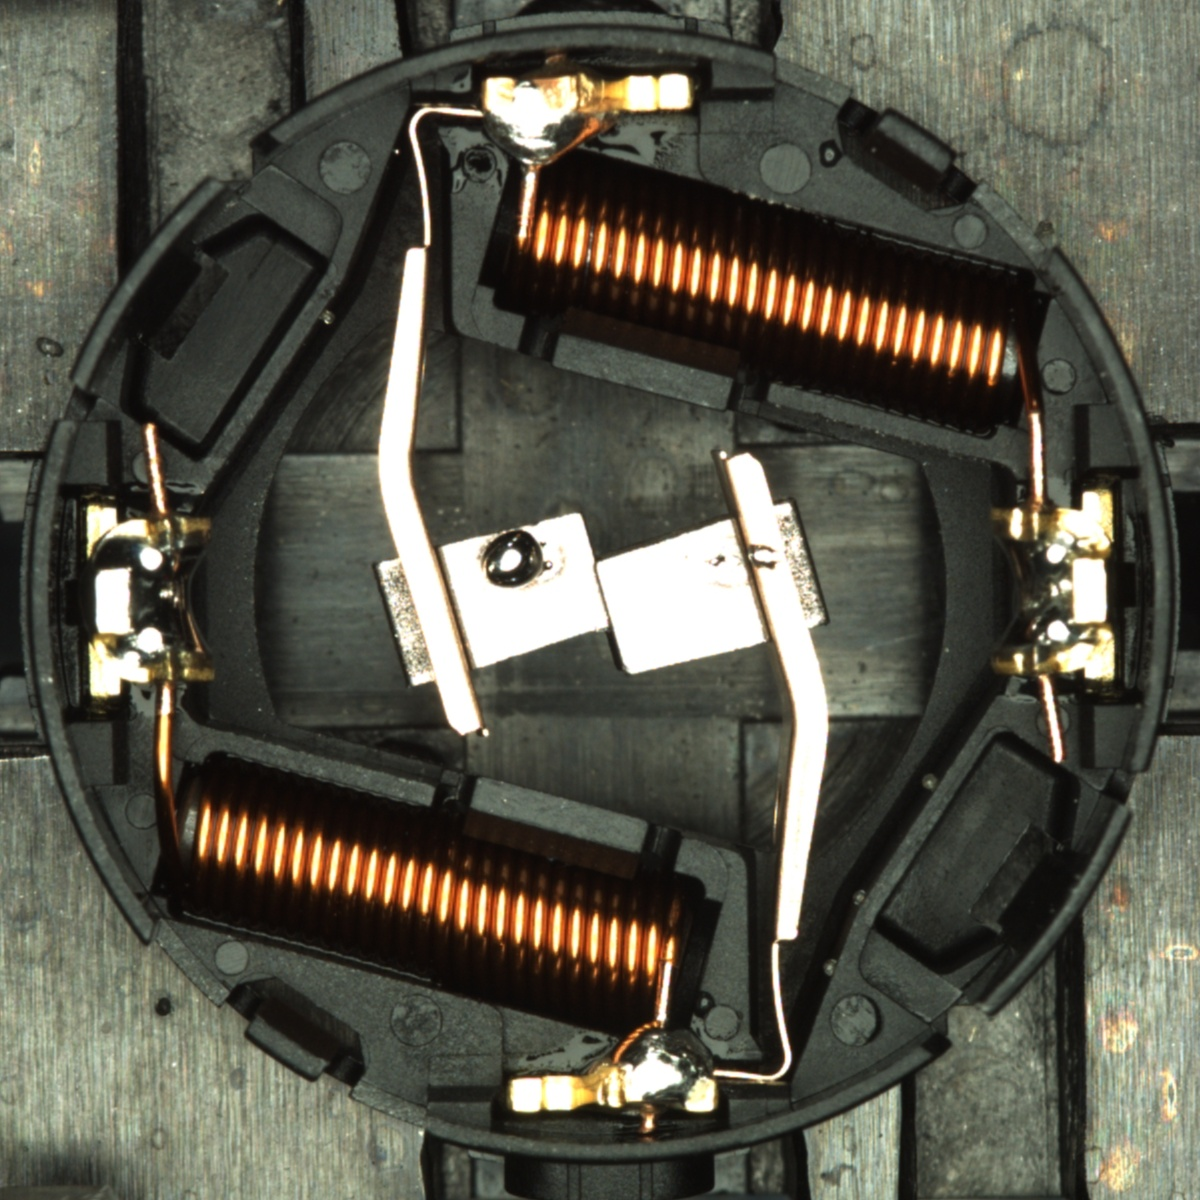1: (258, 55, 487, 279), (716, 953, 945, 1177)
2: (716, 55, 945, 279), (258, 953, 487, 1177)
3: (28, 279, 258, 504), (945, 728, 1175, 953)
4: (258, 279, 487, 504), (716, 728, 945, 953)
5: (487, 167, 716, 392), (487, 840, 716, 1065)
6: (716, 279, 945, 504), (258, 728, 487, 953)
7: (945, 279, 1175, 504), (28, 728, 258, 953)
chau_dien: (79, 499, 219, 701), (984, 489, 1122, 688)
hat_chi: (481, 530, 543, 590), (746, 544, 778, 571)
tay_choi: (478, 72, 697, 172), (507, 1018, 720, 1116)
thanh_de: (953, 787, 1140, 1031), (58, 164, 241, 406)
